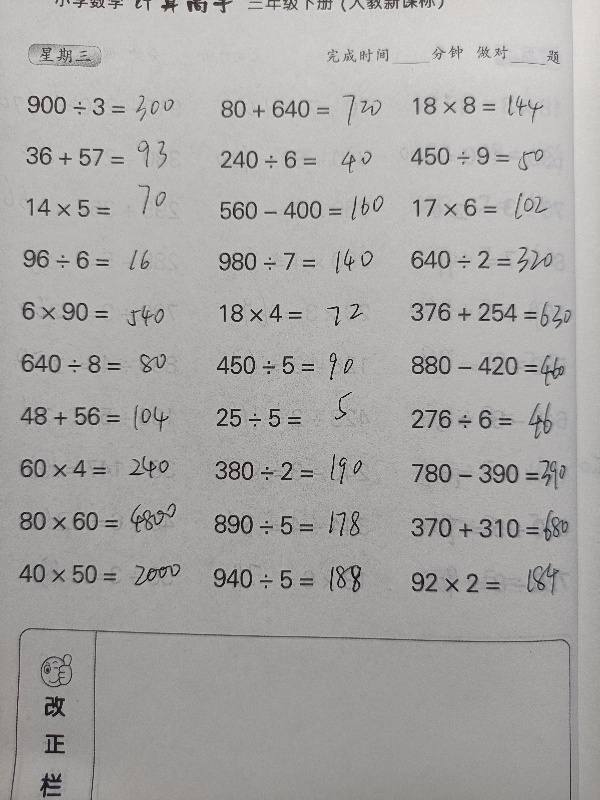equation: (403, 503, 583, 549), (403, 348, 583, 394), (20, 182, 197, 228), (11, 496, 191, 541), (403, 448, 583, 493), (403, 239, 583, 281), (402, 292, 582, 333), (19, 88, 199, 129), (404, 84, 584, 125), (211, 190, 391, 229), (402, 138, 582, 176), (403, 564, 583, 600), (204, 560, 384, 596), (205, 507, 385, 542), (207, 453, 387, 488), (403, 402, 583, 437), (207, 400, 387, 435), (12, 346, 192, 381), (10, 556, 190, 590), (12, 451, 192, 485), (12, 399, 192, 433), (208, 348, 388, 382), (212, 296, 392, 330), (13, 294, 193, 328), (211, 245, 391, 279), (14, 242, 194, 276), (405, 191, 585, 225), (213, 142, 393, 176), (17, 139, 197, 173), (213, 93, 393, 126)
